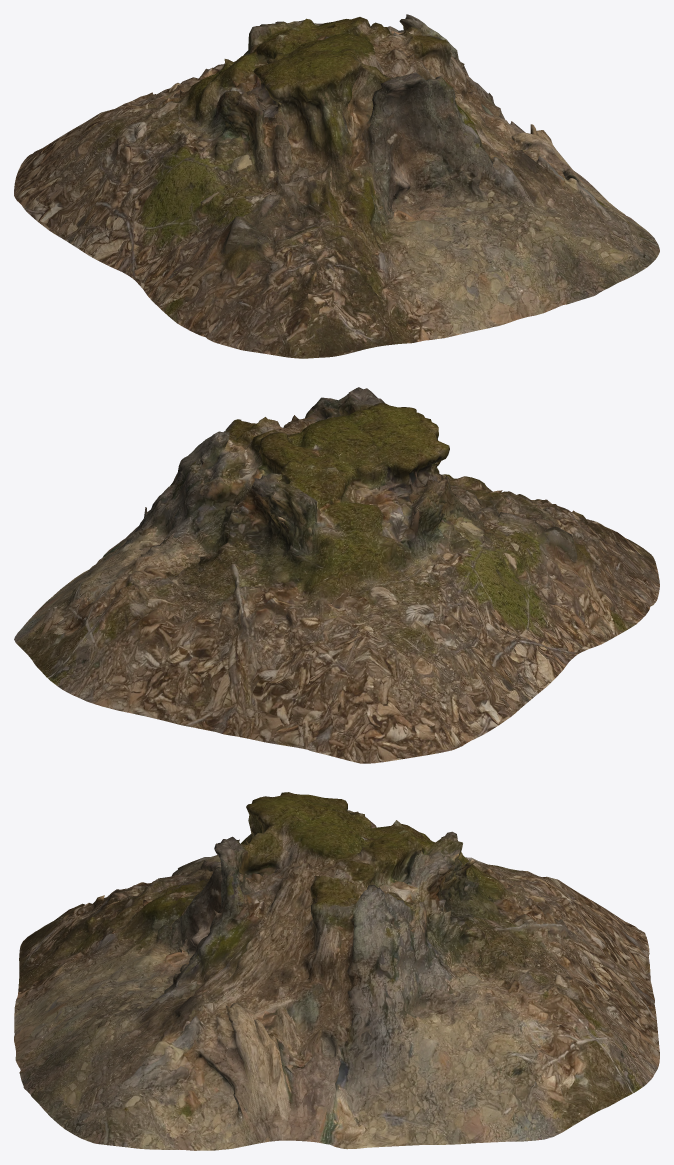
Rendered from tree_stump_01.glb.
3 renders of one model, top to bottom at view 1: azimuth 30°, elevation 25°; view 2: azimuth 150°, elevation 25°; view 3: azimuth 270°, elevation 25°, orthographic. The views are drawn at different scales.
Visible parts, largest first — view 1: tree_stump_01_lod0; view 2: tree_stump_01_lod0; view 3: tree_stump_01_lod0.
Part boxes in pixels (box(x1,y1,x2,y2)): tree_stump_01_lod0: box(14, 14, 659, 358); tree_stump_01_lod0: box(14, 387, 659, 763); tree_stump_01_lod0: box(14, 792, 659, 1150).
Size of what is drawn, in the model's own units: 1.43 by 0.5726 by 1.59.
1 material, 1 textured.
